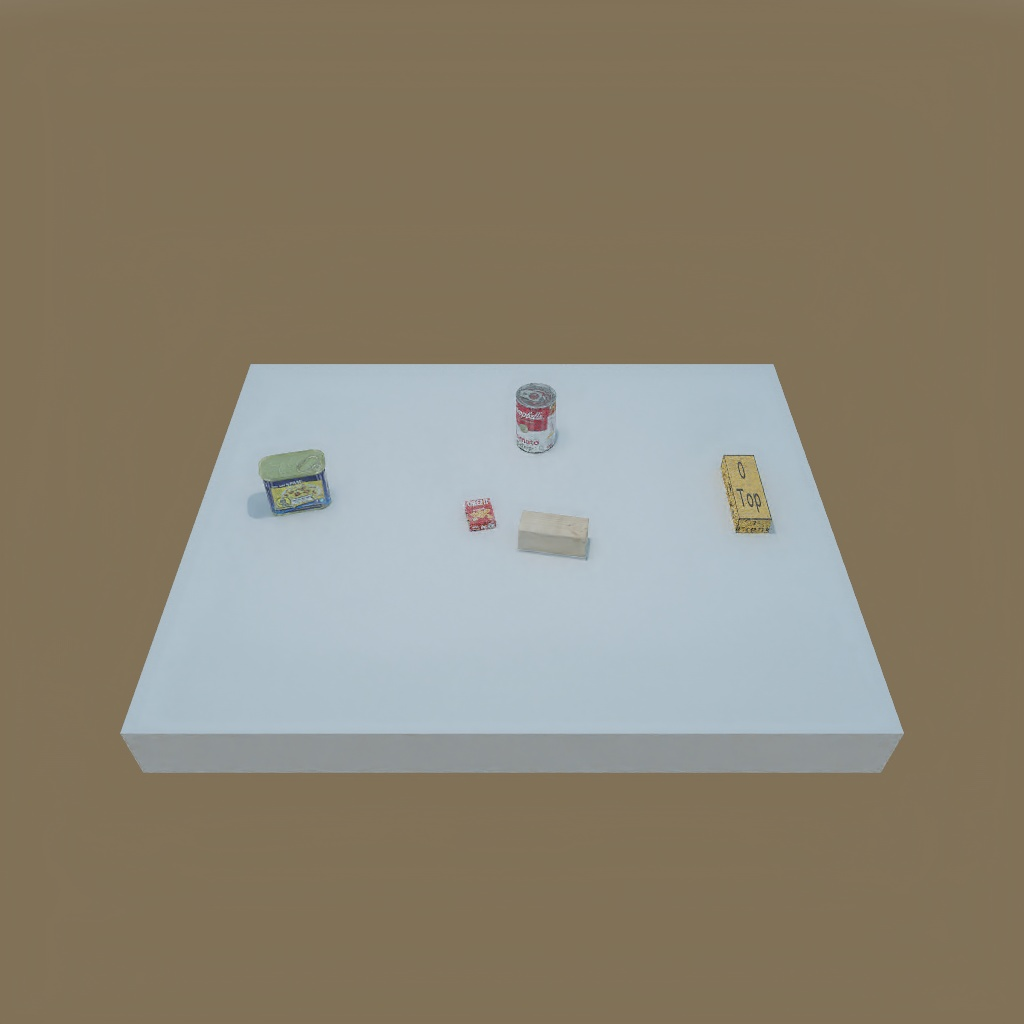jenga: (719, 452, 781, 537)
potted_meat_can: (257, 450, 330, 514)
tomato_soup_can: (515, 383, 562, 452)
wood_block: (513, 508, 588, 556)
